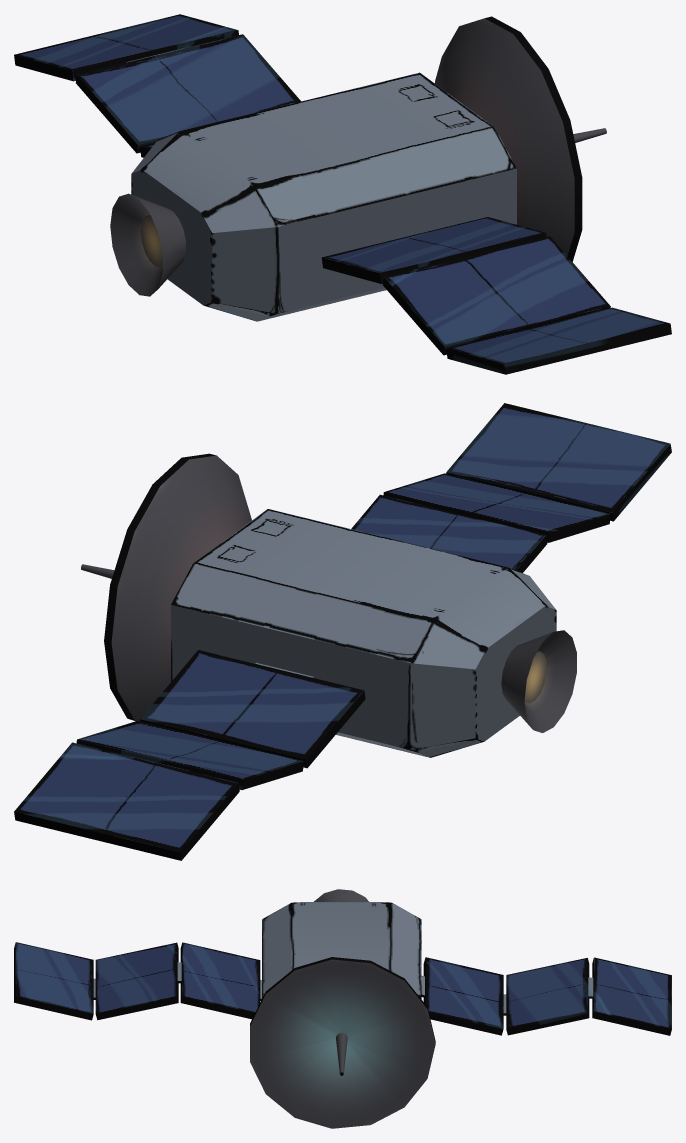
The model's file is asteroid_satellite_1.gltf.
The picture shows the model from 3 angles, top to bottom: view 1: azimuth 30°, elevation 25°; view 2: azimuth 150°, elevation 25°; view 3: azimuth 270°, elevation 25°; orthographic projection. The views are drawn at different scales.
Visible parts, largest first — view 1: Cube.001; view 2: Cube.001; view 3: Cube.001.
Part boxes in pixels (bbox=[...]): Cube.001: bbox=[14, 14, 671, 374]; Cube.001: bbox=[14, 403, 671, 860]; Cube.001: bbox=[14, 889, 671, 1128].
Size of the model in its own units: 1.44 by 0.744 by 2.62.
1 material, 1 textured.
